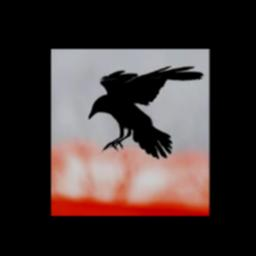Crow: (88, 65, 203, 159)
